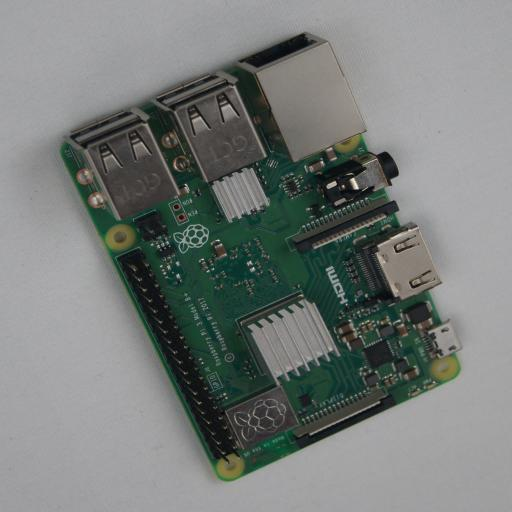Raspberry Pi 3 B-: (59, 32, 460, 481)
